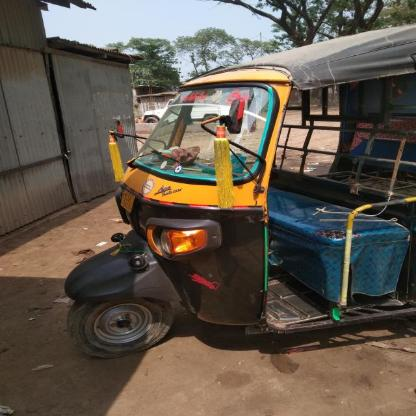auto-rikshaw: (38, 22, 416, 368)
